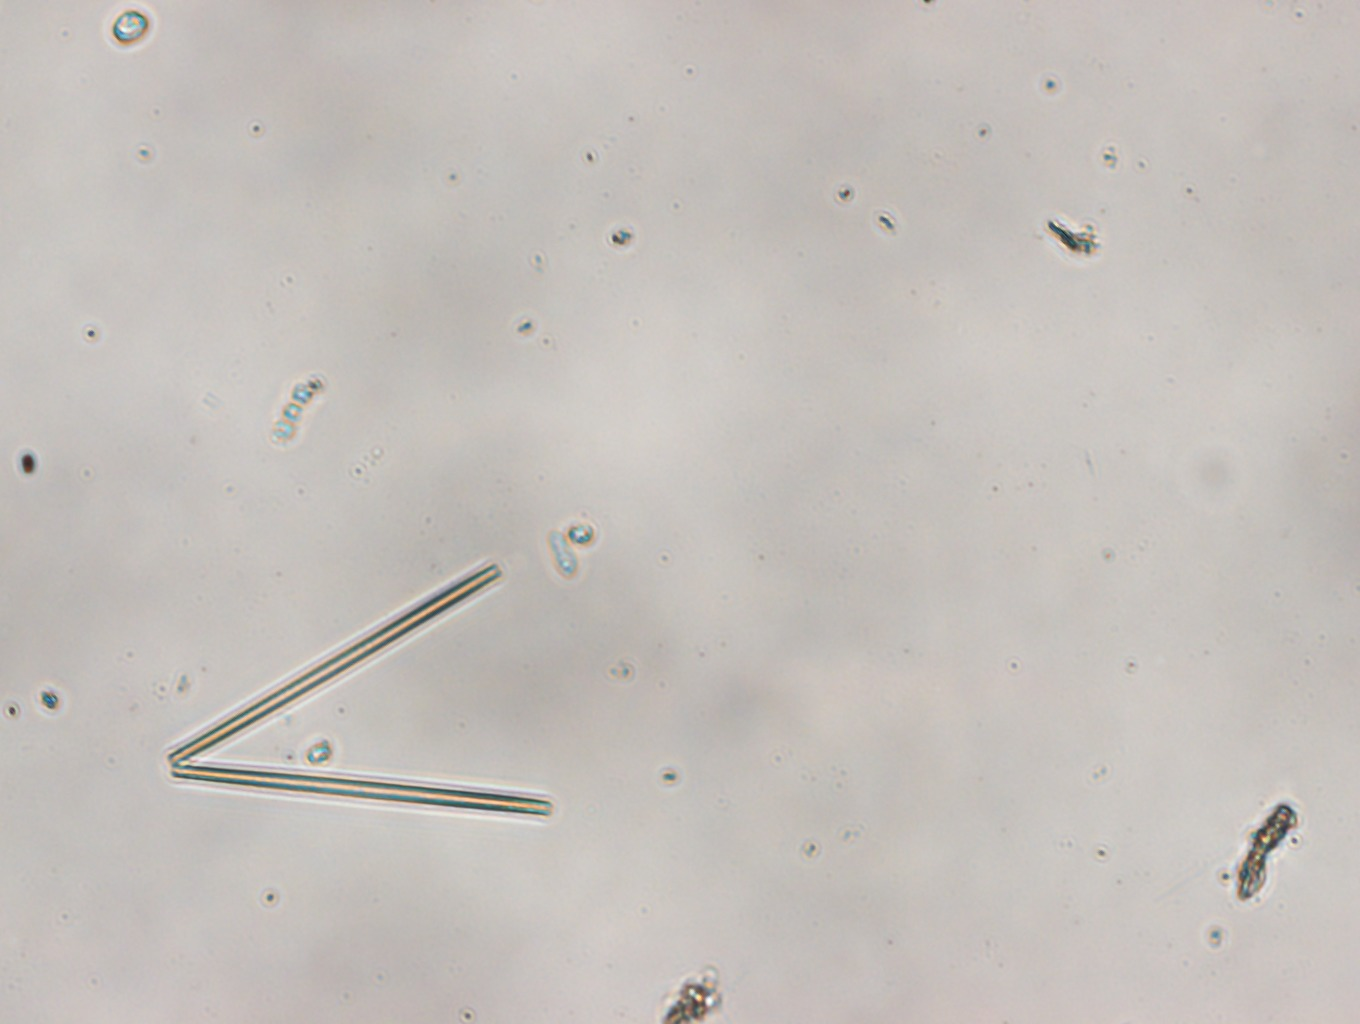thalassionema frauenfeldii: (168, 565, 553, 817)
